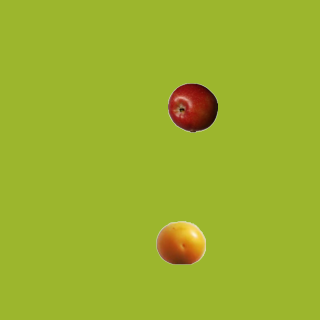Apple Braeburn: (167, 82, 217, 132)
Cherry Wax Yellow: (155, 217, 205, 267)
